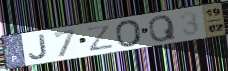3: (178, 10, 201, 38)
7: (53, 27, 77, 58)
J: (28, 33, 50, 60)
O: (114, 19, 144, 48)
Q: (148, 14, 178, 43)
Z: (84, 23, 115, 52)
